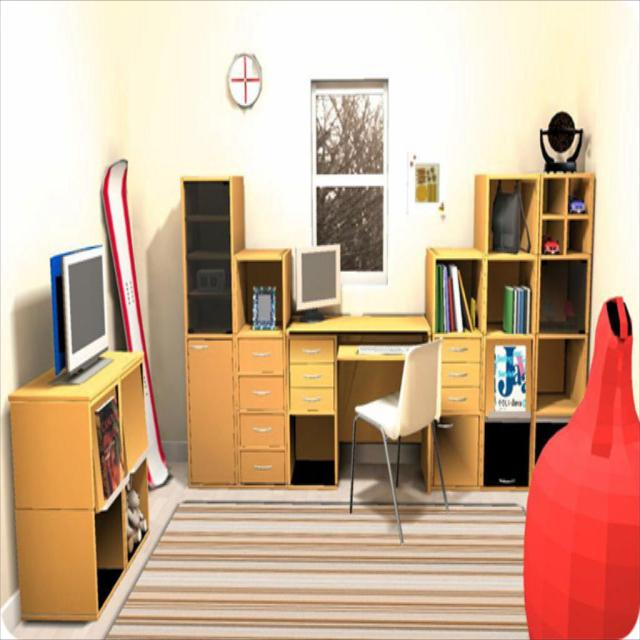chair: (349, 340, 449, 543)
desk: (8, 397, 148, 620)
tv: (50, 244, 110, 380), (292, 244, 342, 313)
